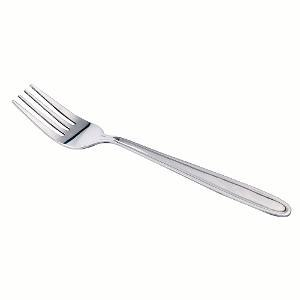Fork: (11, 83, 291, 217)
